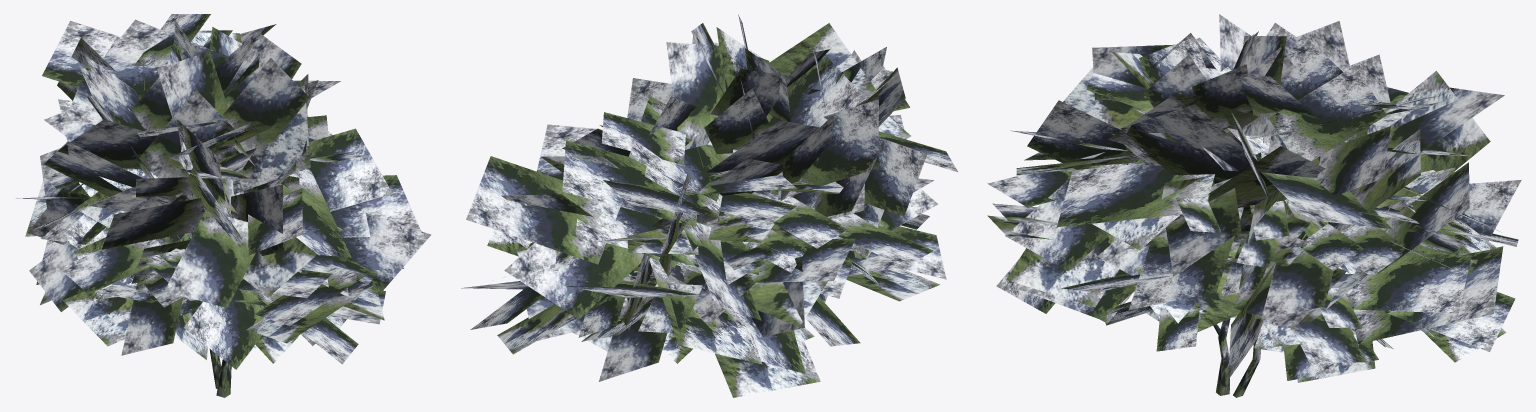
The model's file is tree4-fbx.obj.
3 renders of one model, left to right at view 1: azimuth 30°, elevation 25°; view 2: azimuth 150°, elevation 25°; view 3: azimuth 270°, elevation 25°, orthographic. The views are drawn at different scales.
Parts seen in each view (by area): view 1: LOD01; view 2: LOD01; view 3: LOD01.
Boxes of the visible parts, x1,y1,x2,y2 form: LOD01: (16, 14, 430, 397); LOD01: (461, 14, 957, 397); LOD01: (987, 14, 1521, 397).
Bounding box in the file's own units: 9.9 × 9.46 × 12.91.
